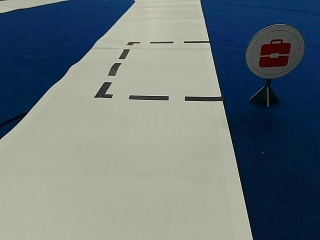company: (245, 24, 305, 78)
